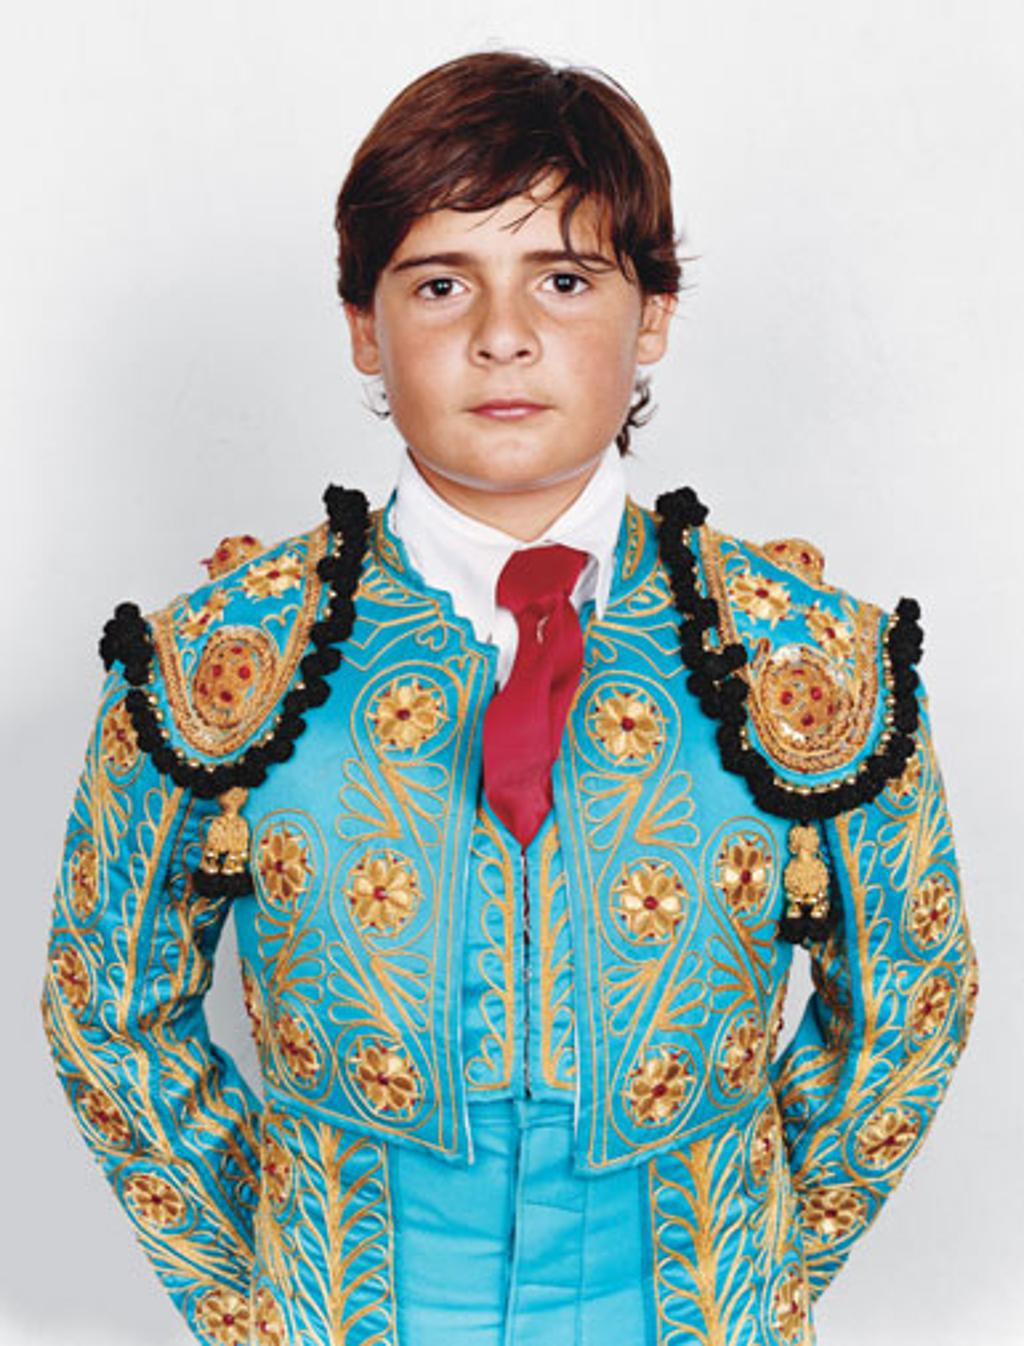face: (374, 195, 644, 484)
